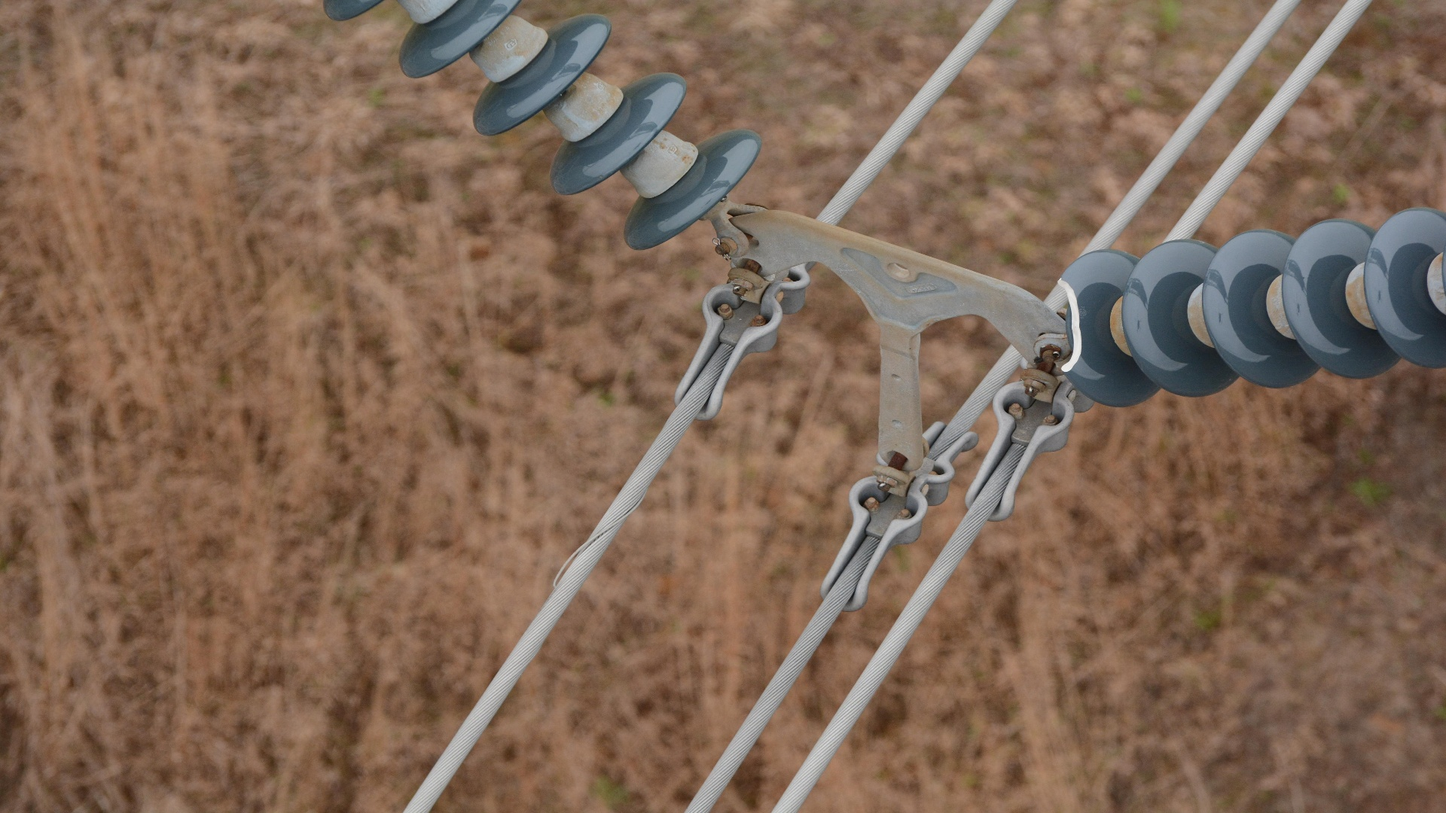insulator: (318, 1, 770, 257), (1044, 201, 1446, 416)
